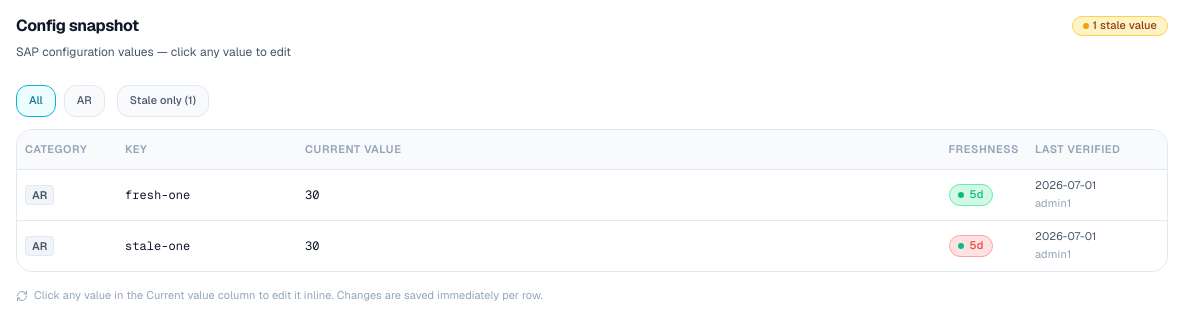
Test case: AdminConfigSnapshotPage › removes the stale-only filter chip via its own remove control
Click the button "Stale only (1)" at (163, 101), box [117,85,209,117]
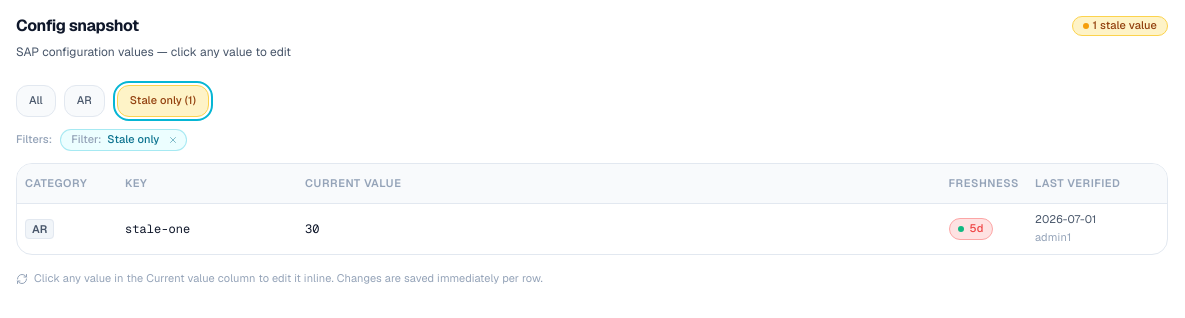
Now the text "fresh-one" is gone
Click the button named "Remove Filter filter" at (173, 140), box [166,133,180,147]
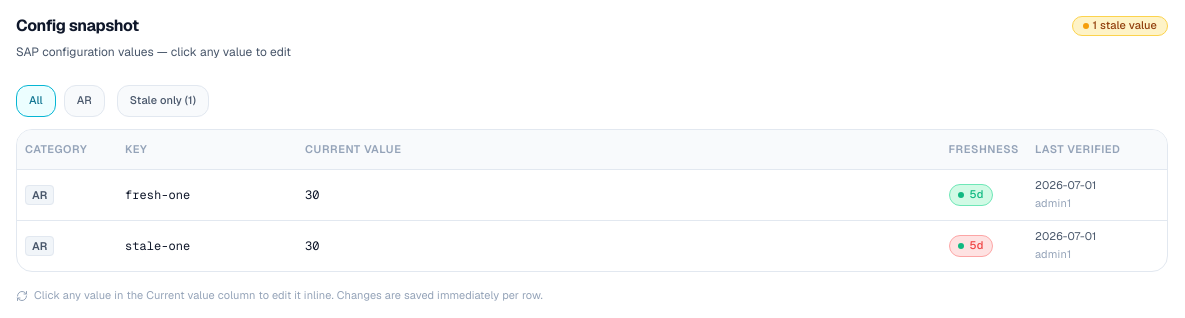
Now the text "fresh-one" is shown, box [125,187,190,203]
